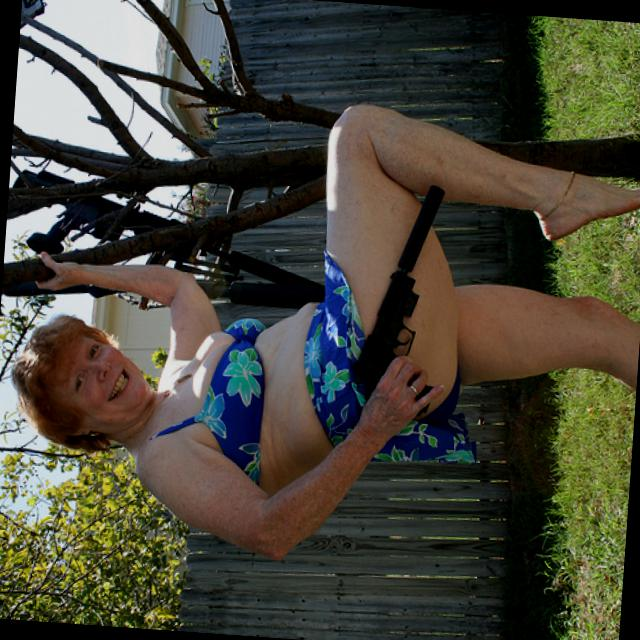handgun: (346, 267, 446, 419)
